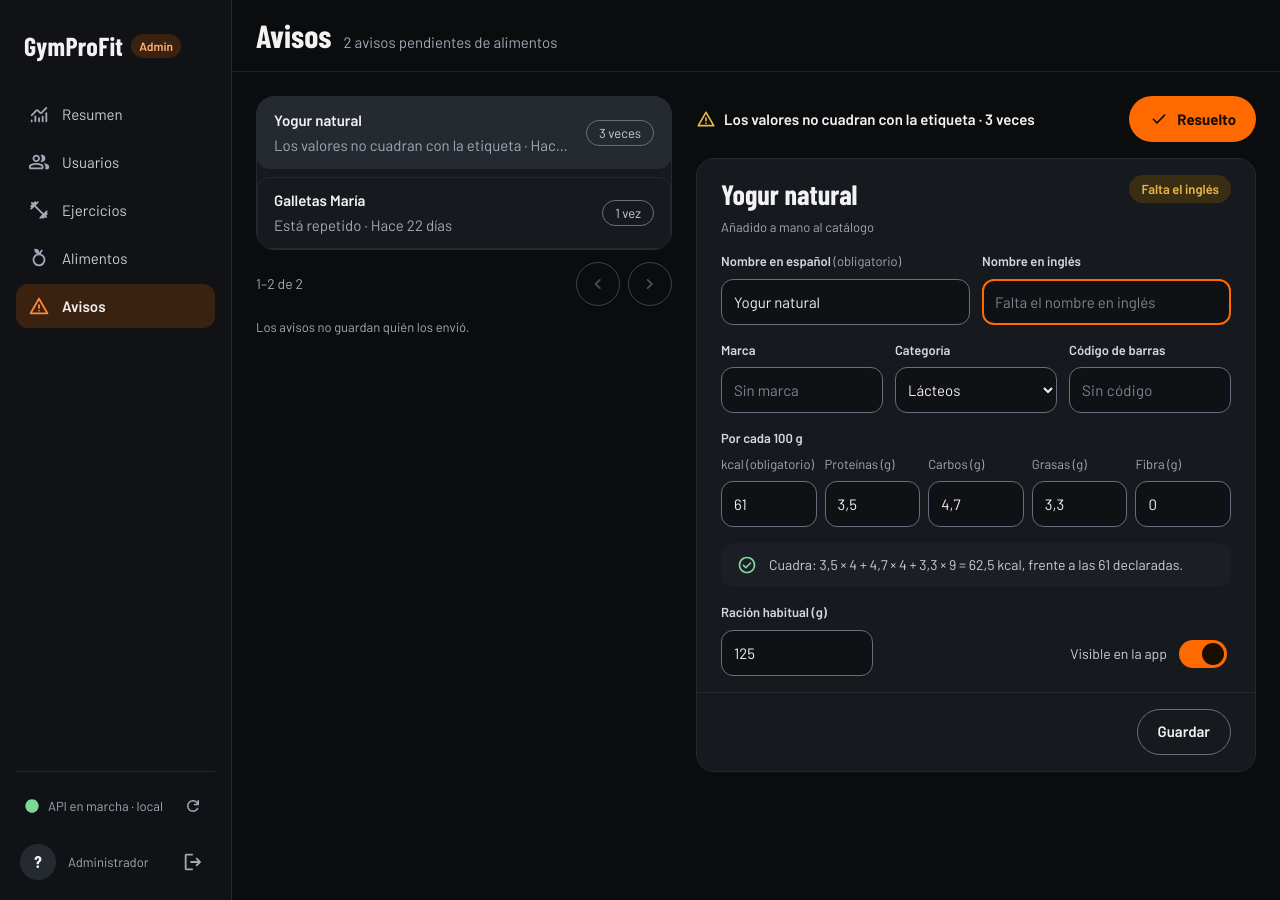
Scenario: Avisos desde 1440 px › «Resuelto» lo quita de la lista
Check: the heading "Yogur natural" is shown, box [721, 175, 874, 214]
Click the button "Resuelto".
click(1193, 119)  # box [1129, 96, 1256, 142]
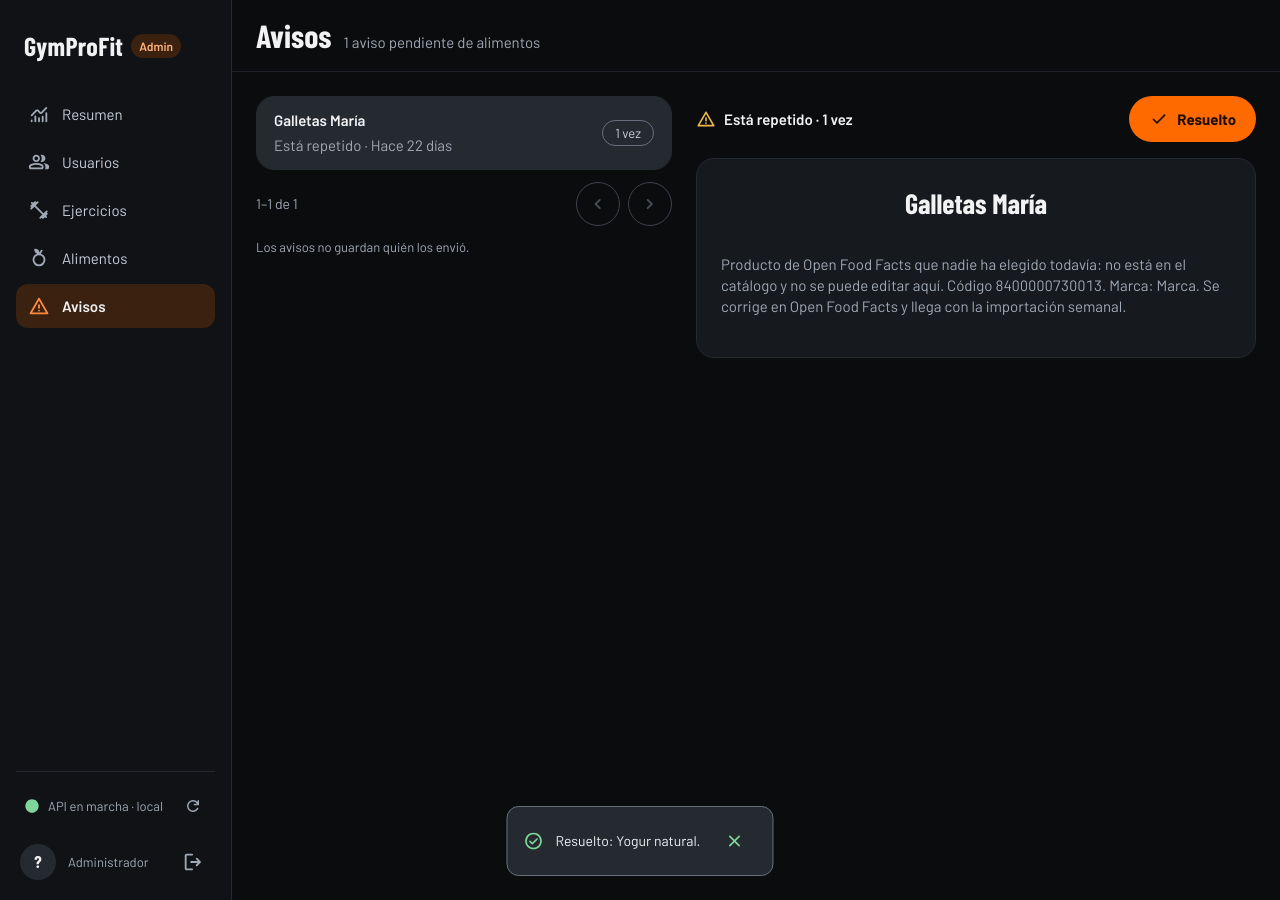
Check: the text "1 aviso pendiente de alimentos" is shown, box [344, 32, 540, 53]
